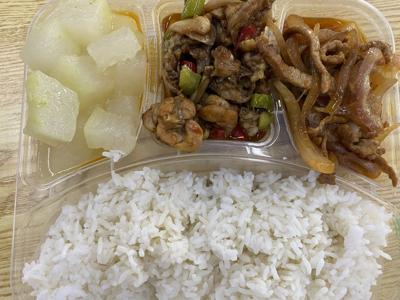dg: (28, 3, 152, 174)
rice: (60, 174, 380, 300)
